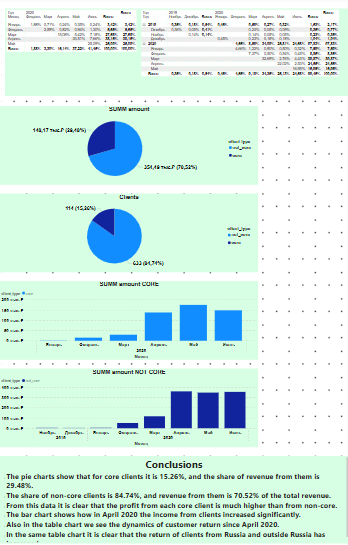

The page's visual inventory and layout, read from the dashboard file:
{"tool":"powerbi","page":{"name":"Страница 1","canvas":[1280,2600],"ordinal":0},"visuals":[{"type":"pivotTable","fields":{"Rows":["cohorts_not_russia csv.min_date.Изменение.Иерархия дат.Год","cohorts_not_russia csv.min_date.Изменение.Иерархия дат.Месяц"],"Values":["CountNonNull(cohorts_not_russia csv.user_id)"],"Columns":["cohorts_not_russia csv.created_at.Изменение.Иерархия дат.Год","cohorts_not_russia csv.created_at.Изменение.Иерархия дат.Месяц"]},"box":[16,48,496,320],"z":0},{"type":"pivotTable","fields":{"Rows":["cohorts_russia csv.min_date.Изменение.Иерархия дат.Год","cohorts_russia csv.min_date.Изменение.Иерархия дат.Месяц"],"Columns":["cohorts_russia csv.created_at.Изменение.Иерархия дат.Год","cohorts_russia csv.created_at.Изменение.Иерархия дат.Месяц"],"Values":["CountNonNull(cohorts_russia csv.user_id)"]},"box":[512,48,768,320],"z":1000},{"type":"pieChart","title":"SUMM amount ","fields":{"Category":["revenues_by_segments.client_type"],"Y":["Sum(revenues_by_segments.total_amount)"]},"box":[0,400,944,288],"z":2000},{"type":"pieChart","title":"Сlients","fields":{"Y":["Count(revenues_by_segments.user_id)"],"Category":["revenues_by_segments.client_type"]},"box":[0,720,944,288],"z":3000},{"type":"columnChart","title":"SUMM amount CORE","fields":{"Category":["revenues_by_segments _3.created_at.Изменение.Иерархия дат.Год","revenues_by_segments _3.created_at.Изменение.Иерархия дат.Месяц"],"Y":["Sum(revenues_by_segments _3.total_amount)"],"Series":["revenues_by_segments _3.client_type"]},"box":[0,1040,944,288],"z":4000},{"type":"columnChart","title":"SUMM amount NOT CORE","fields":{"Category":["revenues_by_segments _3.created_at.Изменение.Иерархия дат.Год","revenues_by_segments _3.created_at.Изменение.Иерархия дат.Месяц"],"Y":["Sum(revenues_by_segments _3.total_amount)"],"Series":["revenues_by_segments _3.client_type"]},"box":[0,1360,944,288],"z":5000},{"type":"textbox","box":[0,1680,1280,320],"z":6000}]}

Visuals, with their boxes on the page's 1280x2600 design canvas (x1, y1, x2, y2). These are canvas units, not pixel positions in the 348x545 screenshot, which may show the page scaled, cropped or inside an application window:
pivotTable - cohorts_not_russia csv.min_date.Изменение.Иерархия дат.Год x cohorts_not_russia csv.min_date.Изменение.Иерархия дат.Месяц: bbox(16, 48, 512, 368)
pivotTable - cohorts_russia csv.min_date.Изменение.Иерархия дат.Год x cohorts_russia csv.min_date.Изменение.Иерархия дат.Месяц: bbox(512, 48, 1280, 368)
"SUMM amount " pieChart: bbox(0, 400, 944, 688)
"Сlients" pieChart: bbox(0, 720, 944, 1008)
"SUMM amount CORE" columnChart: bbox(0, 1040, 944, 1328)
"SUMM amount NOT CORE" columnChart: bbox(0, 1360, 944, 1648)
textbox: bbox(0, 1680, 1280, 2000)
